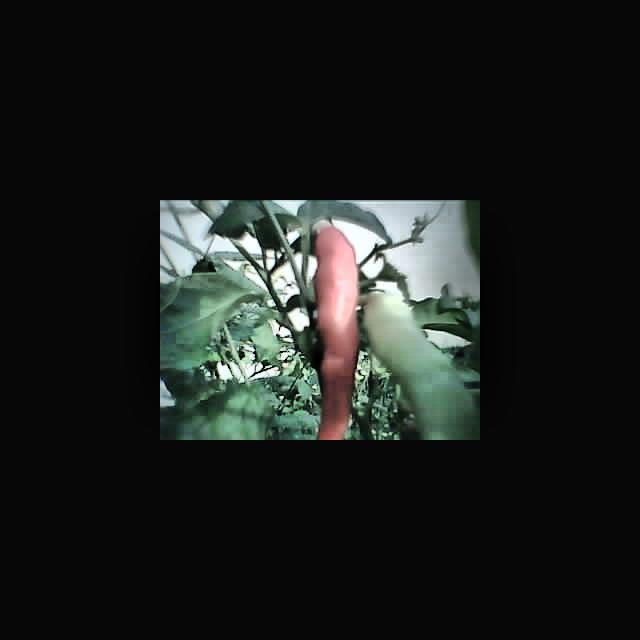Cabai: (306, 215, 371, 440)
